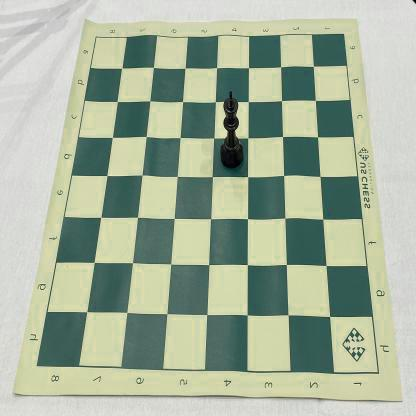black-king: (220, 91, 244, 170)
